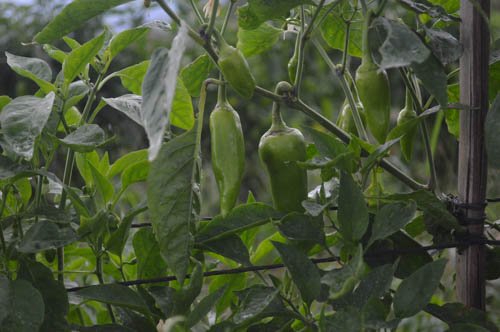ChiliPepper: (258, 122, 316, 215), (206, 104, 246, 222), (355, 62, 397, 148), (334, 95, 367, 171), (218, 42, 260, 98), (397, 105, 418, 162)
